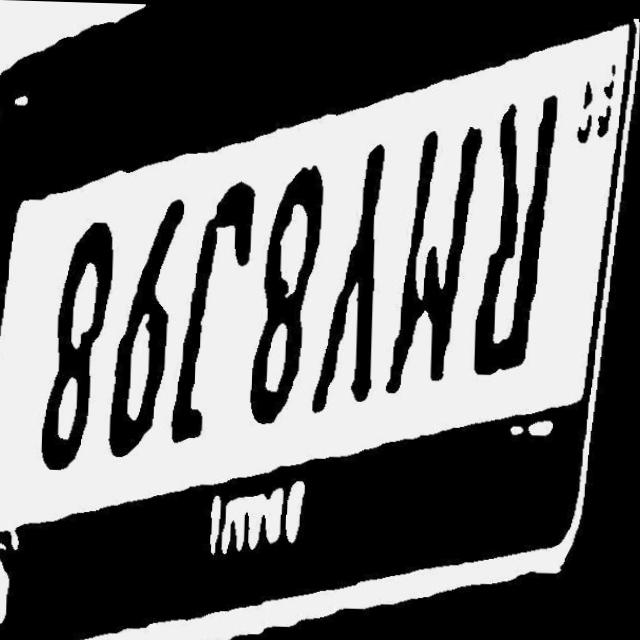8: (248, 162, 329, 427), (36, 217, 118, 476)
9: (105, 194, 189, 458)
j: (169, 174, 258, 446)
m: (384, 119, 485, 399)
r: (472, 89, 561, 380)
y: (310, 137, 389, 418)
